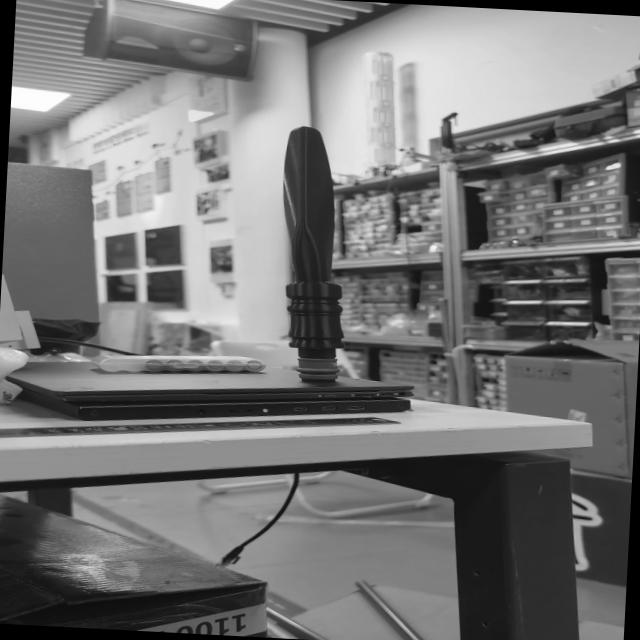base: (285, 353, 345, 389)
